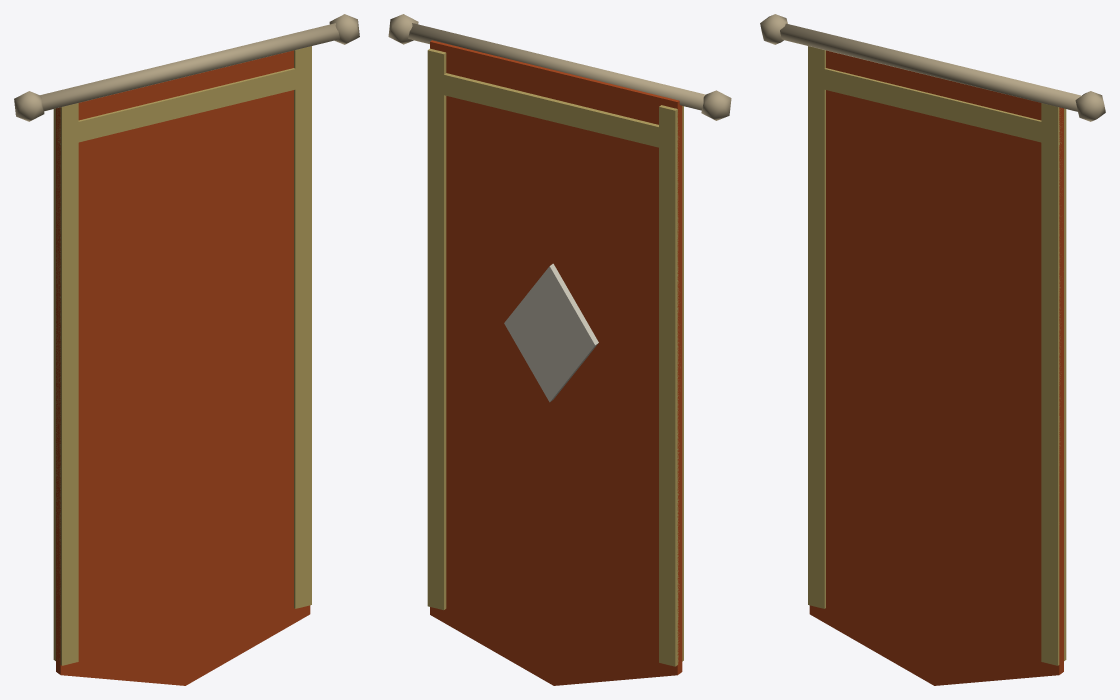
File: lava_bat_banner_v0.glb
3 renders of one model, left to right at view 1: azimuth 30°, elevation 25°; view 2: azimuth 150°, elevation 25°; view 3: azimuth 330°, elevation 25°, orthographic.
Parts seen in each view (by area): view 1: lava_bat_banner_v0; view 2: lava_bat_banner_v0; view 3: lava_bat_banner_v0.
Boxes of the visible parts, left/top/right/bottom form: lava_bat_banner_v0: left=14, top=14, right=359, bottom=685; lava_bat_banner_v0: left=388, top=14, right=731, bottom=685; lava_bat_banner_v0: left=760, top=14, right=1105, bottom=685.
Size of the model in its own units: 1.04 by 1.84 by 0.0933.
